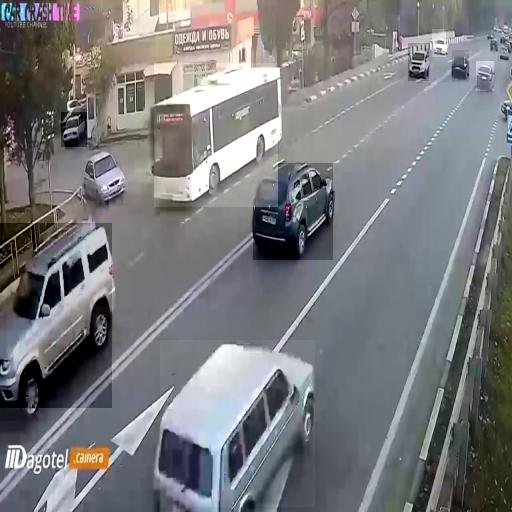小汽车: (160, 340, 315, 507), (0, 223, 112, 408), (154, 63, 278, 207), (253, 163, 333, 260), (82, 148, 128, 203), (61, 112, 87, 147), (408, 43, 429, 81), (452, 50, 469, 82), (476, 61, 494, 91), (432, 29, 446, 57), (498, 38, 510, 62)
